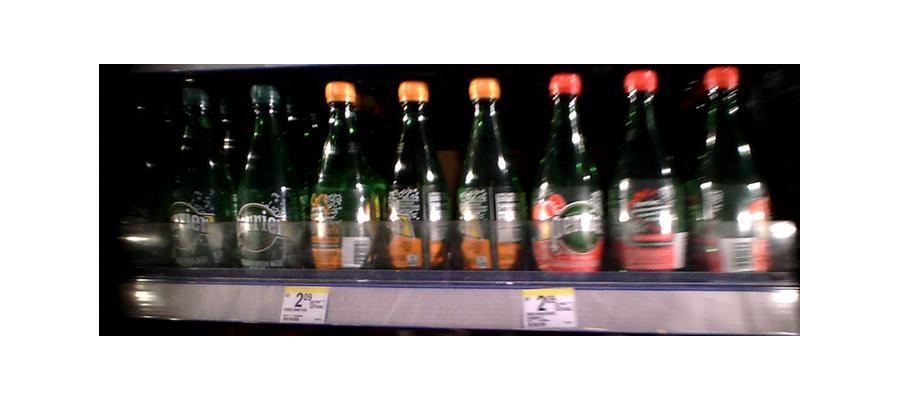bottle: (699, 68, 770, 287), (534, 73, 602, 280), (612, 72, 679, 279), (457, 77, 525, 276), (307, 80, 376, 276), (384, 80, 449, 277), (233, 78, 298, 273), (170, 78, 227, 275)
